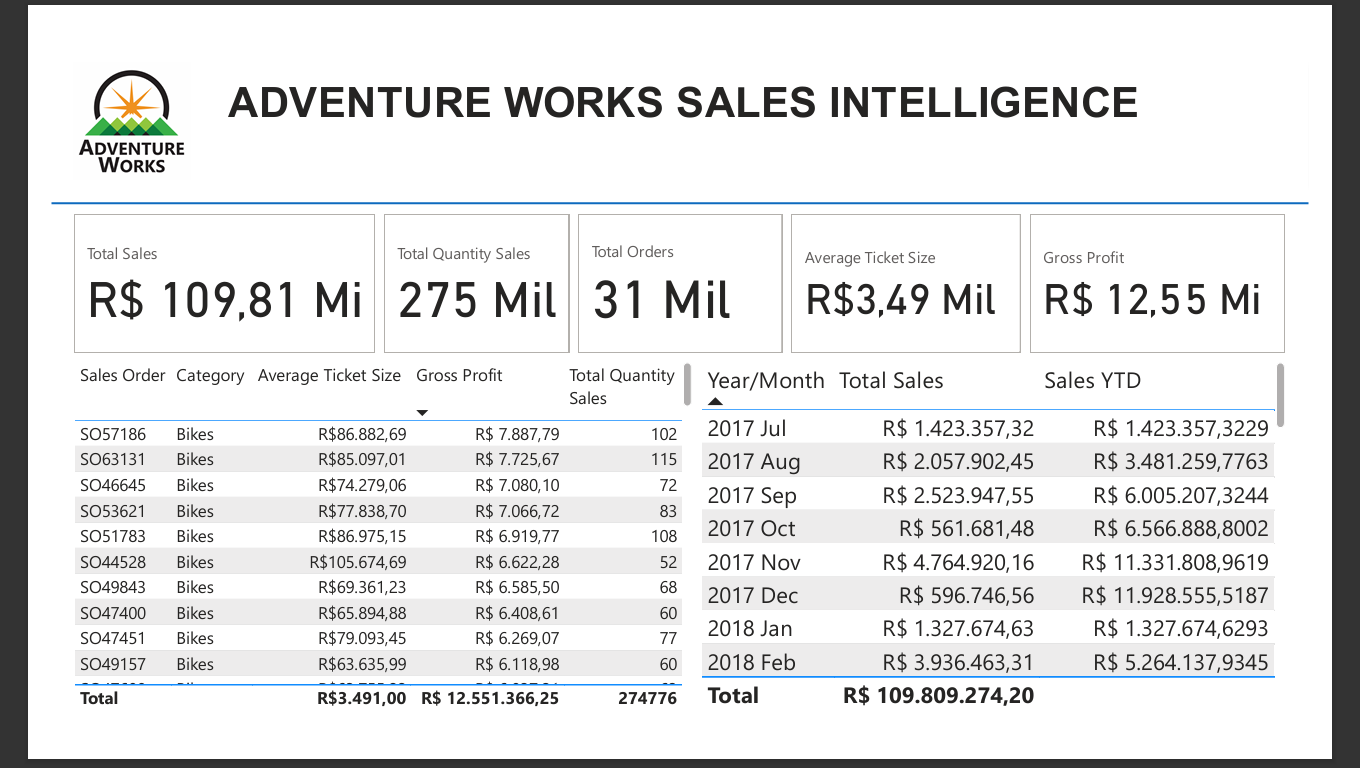

What the dashboard file says about the page in this screenshot:
{"tool":"powerbi","page":{"name":"Sales","canvas":[1280,720],"ordinal":1},"visuals":[{"type":"image","box":[16.9,16.9,128.7,154.1],"z":0},{"type":"shape","box":[0,171,1280,13.5],"z":1000},{"type":"textbox","box":[175,45,963.9,98.4],"z":2000},{"type":"cardVisual","fields":{"Data":["Sales.Total Quantity Sales"]},"box":[333.6,183.7,198.4,151.3],"z":3000},{"type":"cardVisual","fields":{"Data":["Sales.Total Orders"]},"box":[531.9,183.7,217.5,151.3],"z":4000},{"type":"cardVisual","fields":{"Data":["Sales.Average Ticket Size"]},"box":[749.4,183.7,242.4,151.3],"z":5000},{"type":"cardVisual","fields":{"Data":["Sales.Total Sales"]},"box":[17.6,183.7,315.9,151.3],"z":6000},{"type":"cardVisual","fields":{"Data":["Sales.Medida"]},"box":[991.8,183.7,268.9,151.3],"z":7000},{"type":"tableEx","fields":{"Values":["Sales Order.Sales Order","Product.Category","Sales.Average Ticket Size","Sales.Gross Profit","Sales.Total Quantity Sales"]},"box":[17.6,335,639.2,364.4],"z":8000},{"type":"tableEx","fields":{"Values":["Date.Fiscal.Month","Sales.Total Sales","Date.Sales YTD"]},"box":[656.8,335,603.9,364.4],"z":9000}]}

Visuals, with their boxes in screenshot pixels (x1, y1, x2, y2), scaled from the page's 1280x720 canvas onto the 1360x768 screenshot:
image: 18, 18, 155, 182
shape: 0, 182, 1359, 197
textbox: 186, 48, 1210, 153
cardVisual - Sales.Total Quantity Sales: 354, 196, 565, 357
cardVisual - Sales.Total Orders: 565, 196, 796, 357
cardVisual - Sales.Average Ticket Size: 796, 196, 1054, 357
cardVisual - Sales.Total Sales: 19, 196, 354, 357
cardVisual - Sales.Medida: 1054, 196, 1339, 357
tableEx - Sales Order.Sales Order x Product.Category: 19, 357, 698, 746
tableEx - Date.Fiscal.Month x Sales.Total Sales: 698, 357, 1339, 746
